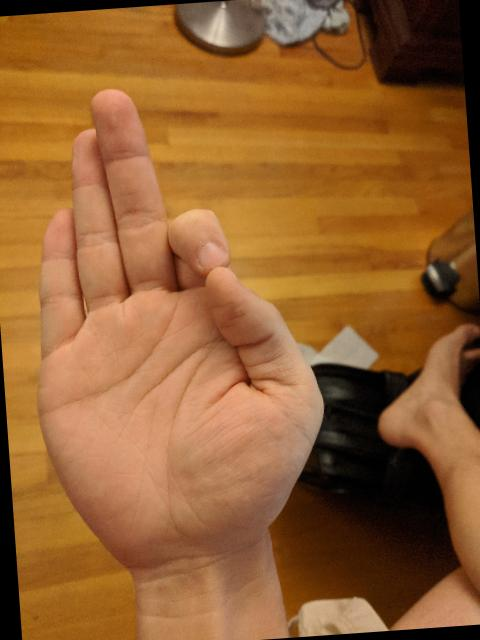F: (8, 69, 340, 586)
